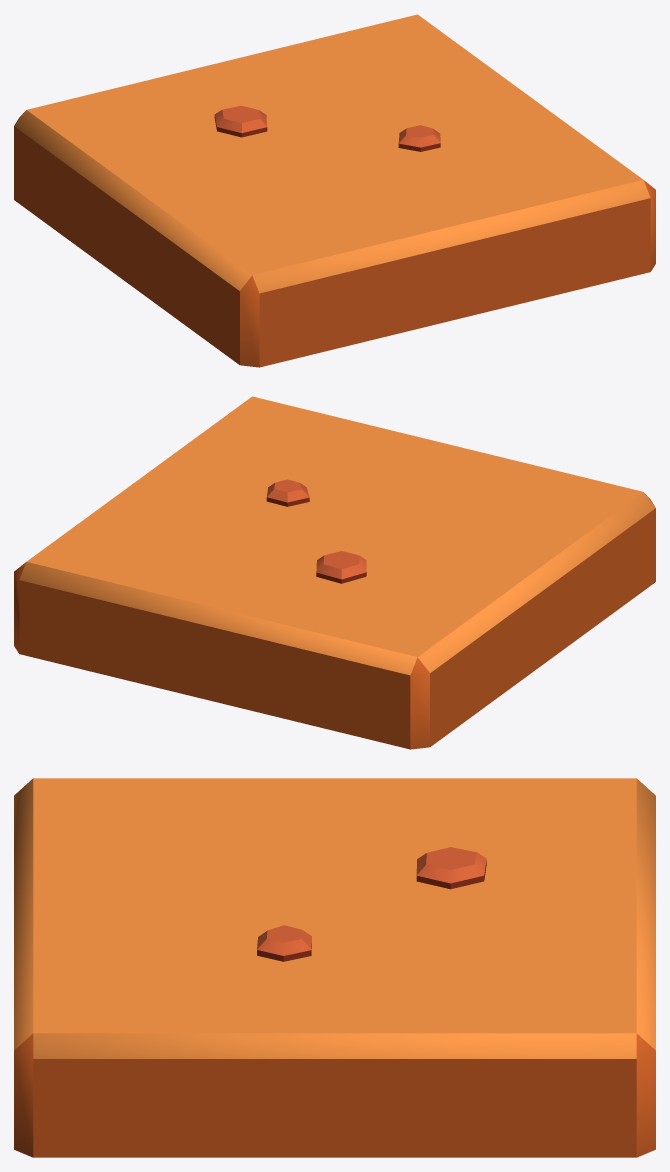
File: sand_tile_pebbles.glb
3 renders of one model, top to bottom at view 1: azimuth 30°, elevation 25°; view 2: azimuth 150°, elevation 25°; view 3: azimuth 270°, elevation 25°, orthographic. The views are drawn at different scales.
Visible parts, largest first — view 1: sand_tile_pebbles; view 2: sand_tile_pebbles; view 3: sand_tile_pebbles.
Part boxes in pixels (x1,y1,x2,y2): sand_tile_pebbles: (14,14,655,367); sand_tile_pebbles: (14,396,655,749); sand_tile_pebbles: (14,778,655,1157).
Bounding box in the file's own units: 1 × 0.225 × 1.
1 material, 1 textured.
